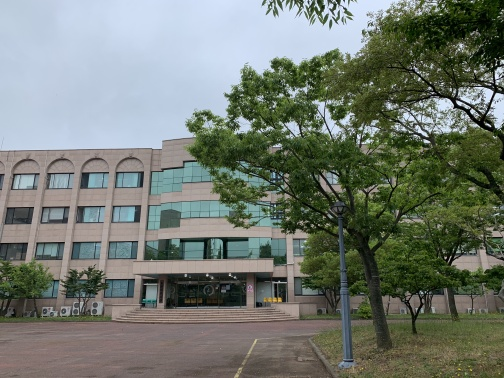Natural Science2: (5, 131, 333, 320)
